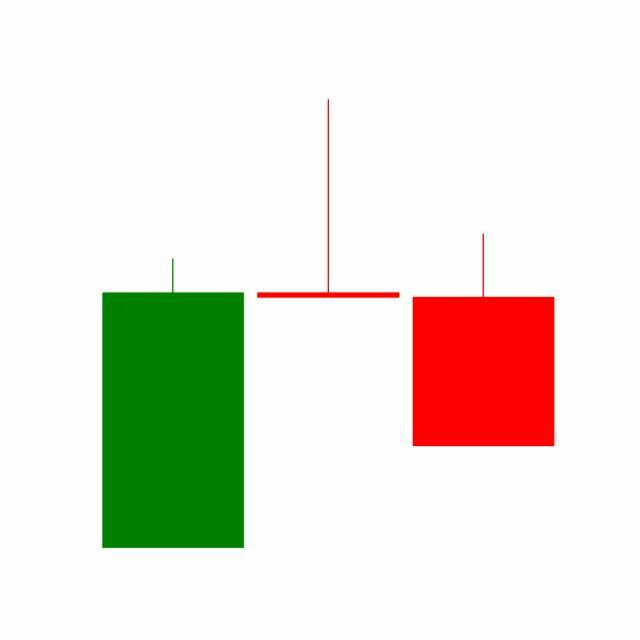Gravestone Doji: (250, 97, 407, 300)
